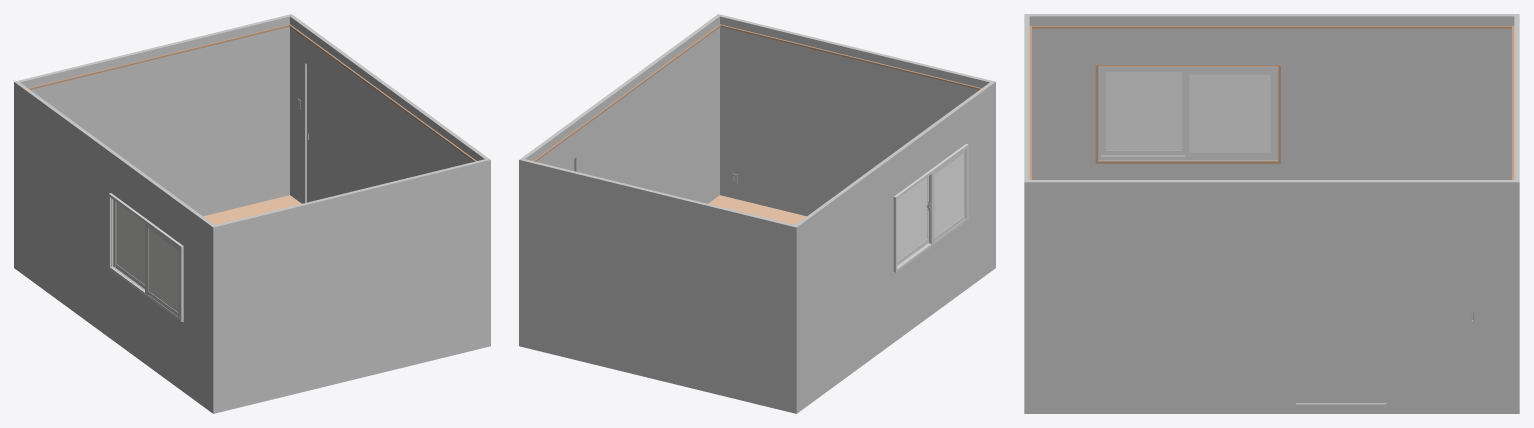
File: 174_部屋10畳view.glb
3 renders of one model, left to right at view 1: azimuth 30°, elevation 25°; view 2: azimuth 150°, elevation 25°; view 3: azimuth 270°, elevation 25°, orthographic. The views are drawn at different scales.
Visible parts, largest first — view 1: 南壁, 北壁, 西壁, 東壁, 引き戸, 右, 左, 床; view 2: 北壁, 南壁, 西壁, 東壁, 右, 左, 床; view 3: 東壁, 西壁, 引き戸, 左, 右, 北壁, 南壁.
Part boxes in pixels (x1=…): 南壁: x1=211, y1=158, x2=490, y2=413; 北壁: x1=14, y1=14, x2=293, y2=269; 西壁: x1=16, y1=82, x2=214, y2=411; 東壁: x1=289, y1=15, x2=488, y2=203; 引き戸: x1=307, y1=65, x2=341, y2=202; 右: x1=145, y1=223, x2=179, y2=317; 左: x1=113, y1=200, x2=144, y2=288; 床: x1=203, y1=195, x2=301, y2=224; 北壁: x1=519, y1=158, x2=798, y2=413; 南壁: x1=716, y1=14, x2=995, y2=269; 西壁: x1=795, y1=82, x2=993, y2=411; 東壁: x1=521, y1=15, x2=720, y2=203; 右: x1=928, y1=148, x2=967, y2=243; 左: x1=897, y1=176, x2=928, y2=265; 床: x1=708, y1=195, x2=806, y2=224; 東壁: x1=1029, y1=180, x2=1514, y2=413; 西壁: x1=1029, y1=14, x2=1514, y2=179; 引き戸: x1=1386, y1=226, x2=1476, y2=404; 左: x1=1185, y1=71, x2=1275, y2=157; 右: x1=1101, y1=71, x2=1184, y2=154; 北壁: x1=1512, y1=14, x2=1519, y2=413; 南壁: x1=1024, y1=14, x2=1031, y2=413.
Size of the model in its own units: 3.77 by 2.4 by 4.65.
